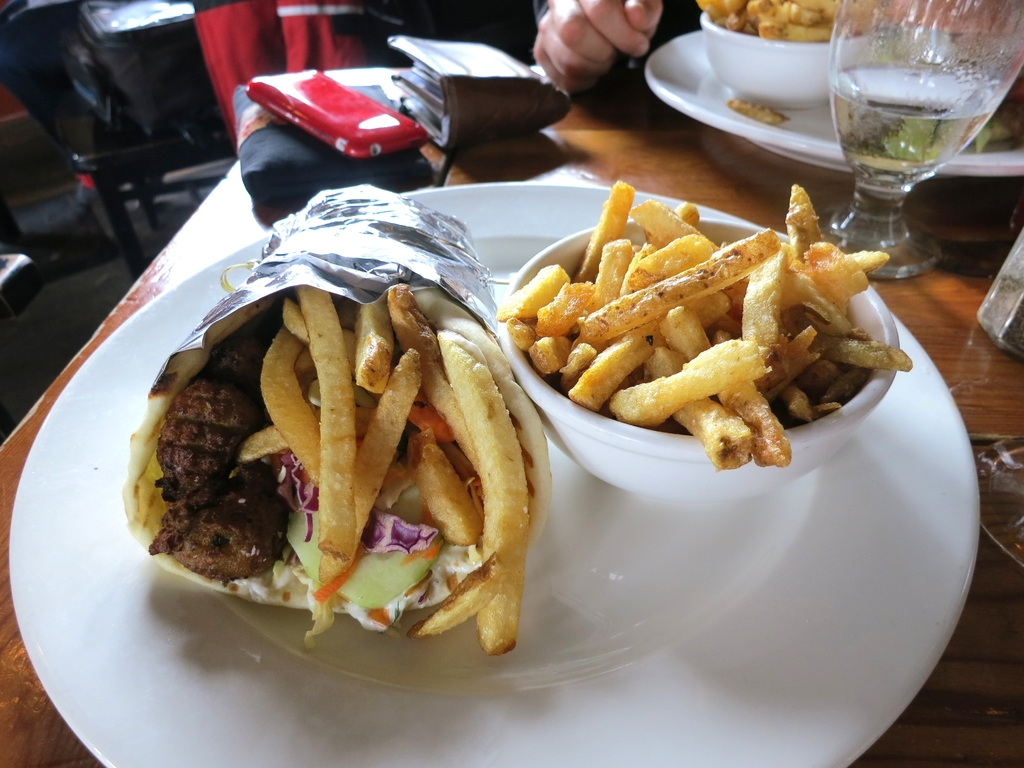French fries: (495, 184, 910, 465), (258, 284, 527, 658), (695, 0, 885, 38), (725, 95, 789, 120)
